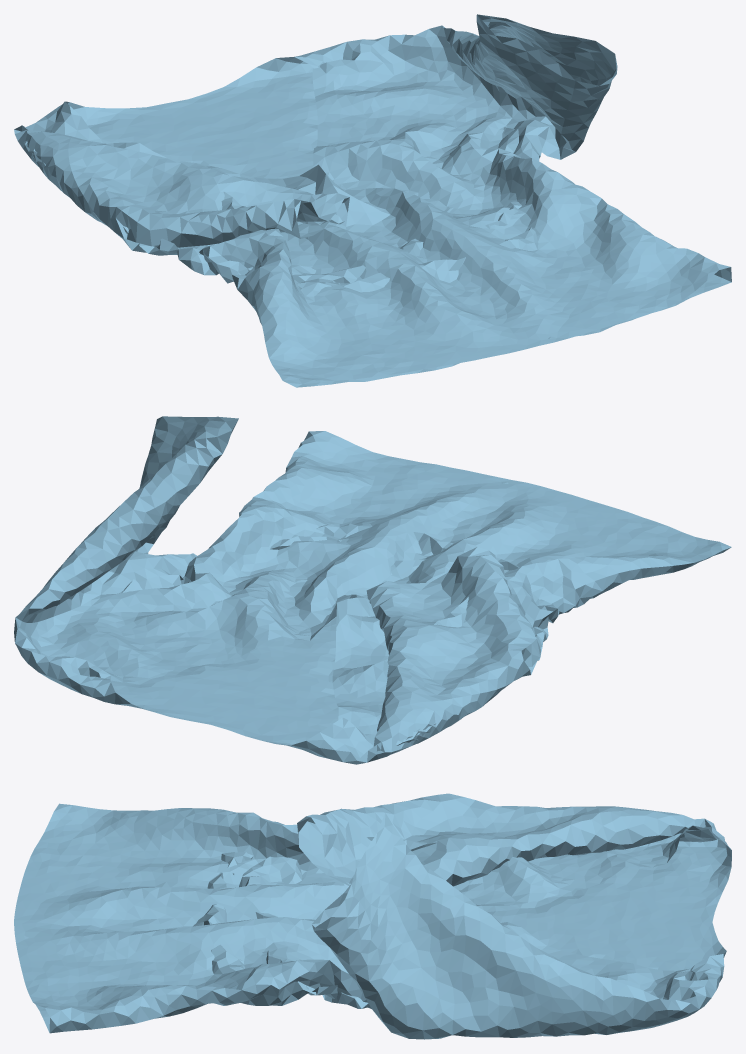
File: frame_13.glb
3 renders of one model, top to bottom at view 1: azimuth 30°, elevation 25°; view 2: azimuth 150°, elevation 25°; view 3: azimuth 270°, elevation 25°, orthographic. The views are drawn at different scales.
Visible parts, largest first — view 1: frame_13.obj; view 2: frame_13.obj; view 3: frame_13.obj.
Part boxes in pixels (x1,y1,x2,y2): frame_13.obj: (14, 14, 731, 387); frame_13.obj: (14, 416, 731, 764); frame_13.obj: (14, 793, 731, 1039).
Bounding box in the file's own units: 1.22 × 0.4421 × 1.58.
